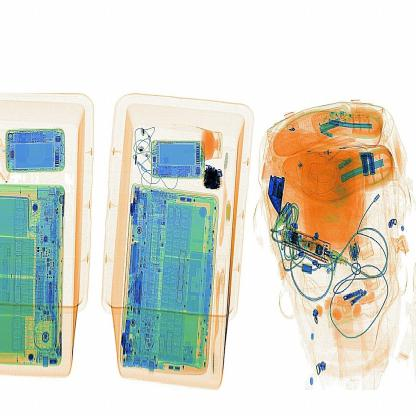scissors: (196, 163, 228, 195)
